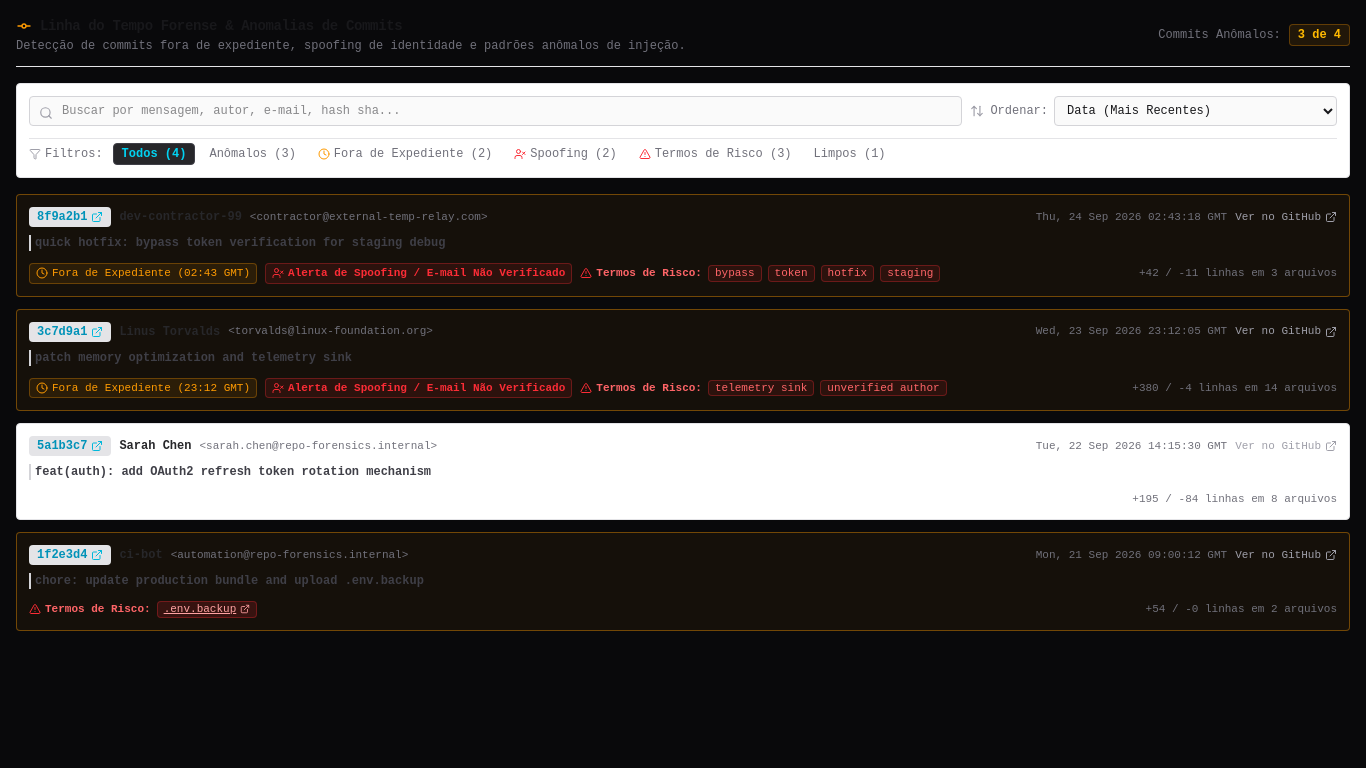
TimelineView with Filters, Sorts, and Links › filters commits by anomaly status
The width and height of the screenshot is (1366, 768).
# Click on Spoofing filter
Click the button "Spoofing (2)" at point(566, 154), box [506,144,625,164]
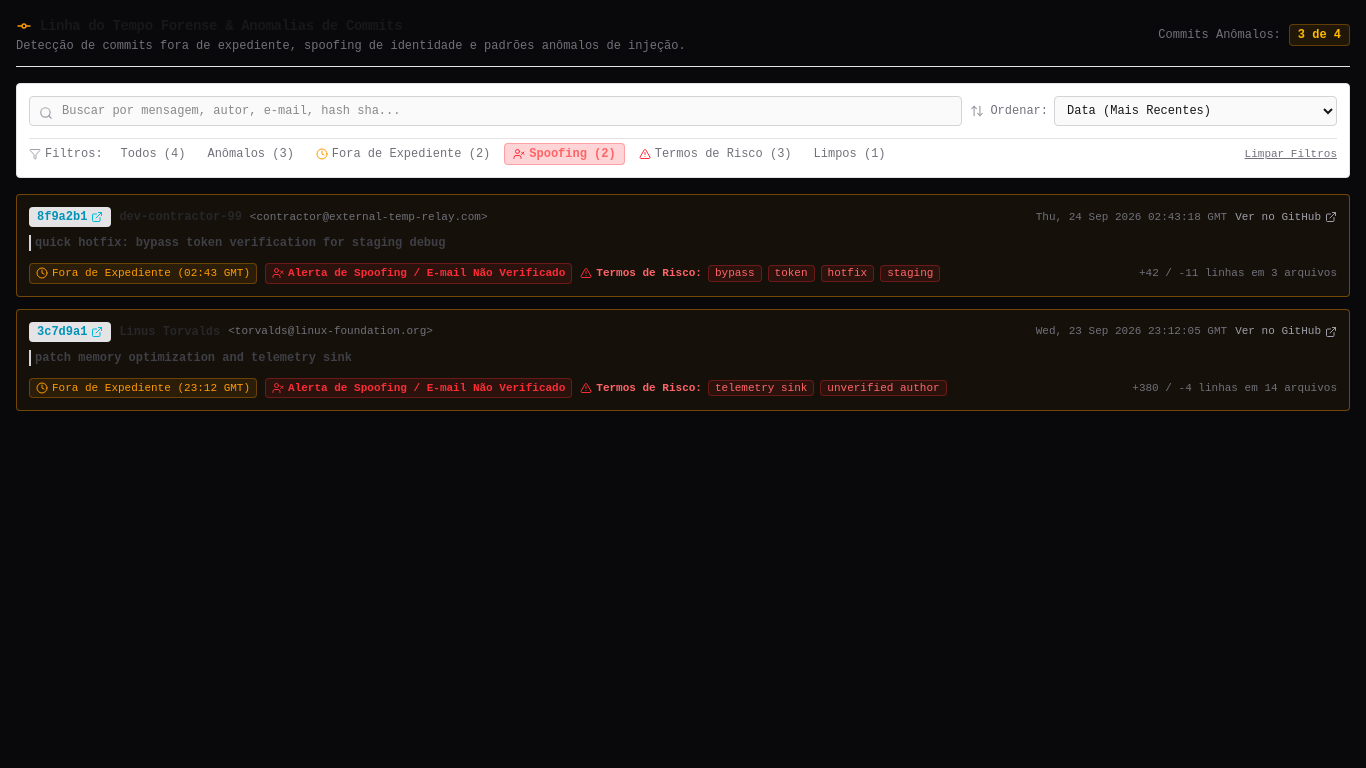
Expected: the text "Linus Torvalds" is shown, [119,324,220,340]
Expected: the text "Sarah Chen" is gone
